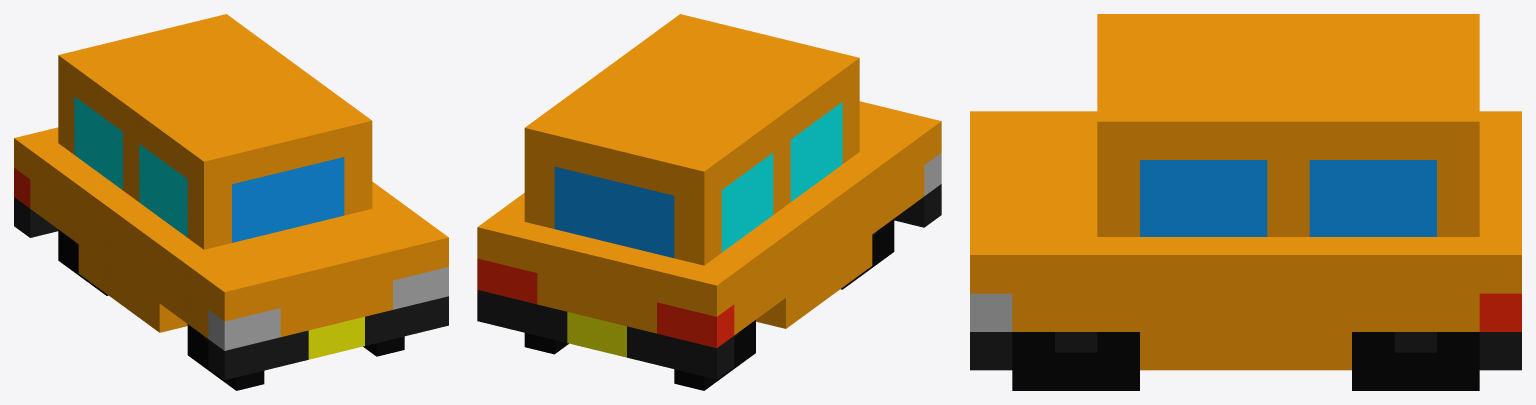
The model's file is Car_yellow_obj.obj.
3 renders of one model, left to right at view 1: azimuth 30°, elevation 25°; view 2: azimuth 150°, elevation 25°; view 3: azimuth 270°, elevation 25°, orthographic. The views are drawn at different scales.
Visible parts, largest first — view 1: 立方体.013; view 2: 立方体.013; view 3: 立方体.013.
Boxes of the visible parts, left/top/right/bottom form: 立方体.013: left=14, top=14, right=448, bottom=390; 立方体.013: left=477, top=14, right=941, bottom=390; 立方体.013: left=970, top=14, right=1521, bottom=390.
Bounding box in the file's own units: 8 × 7 × 13.
